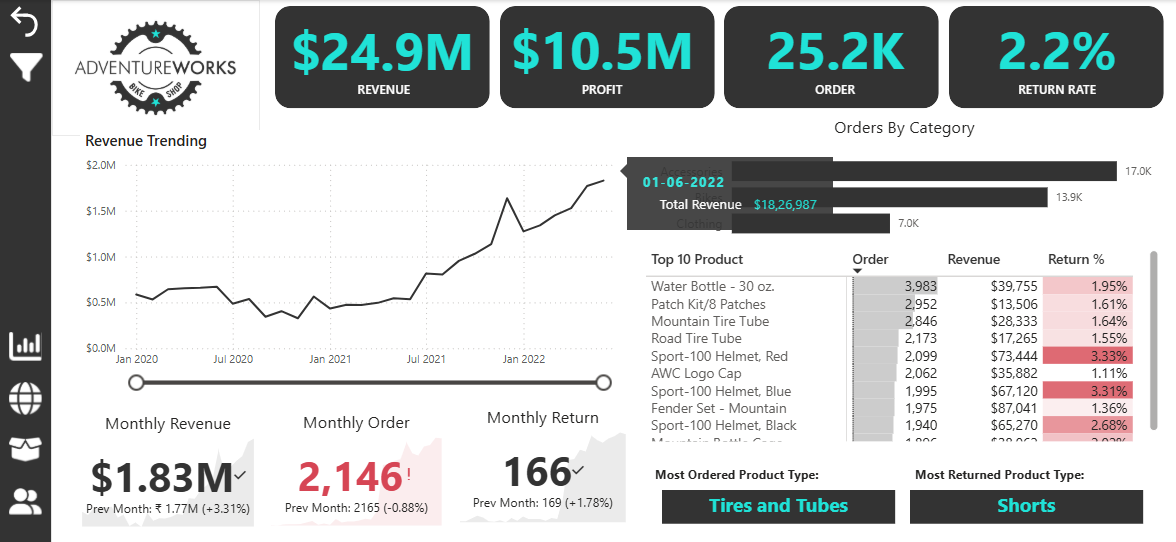

The dashboard page shown, as its layout file describes it:
{"tool":"powerbi","page":{"name":"Executive Dashboard","canvas":[1150,530],"ordinal":1},"visuals":[{"type":"image","title":"AW Logo","box":[51.1,0,203.3,133.3],"z":0},{"type":"group","id":"g1","title":"KPI Background","box":[268.6,5.6,868.9,100],"z":0,"group":"g3"},{"type":"shape","box":[488.2,5.6,210,100],"z":0,"group":"g1"},{"type":"card","fields":{"Values":["Measure Table.Total Profit"]},"box":[473.5,7.3,231.1,93],"z":0,"group":"g2"},{"type":"shape","title":"Left Nav Background","box":[0,0,50,530],"z":1000},{"type":"shape","box":[927.5,5.6,210,100],"z":1000,"group":"g1"},{"type":"group","id":"g2","title":"KPI Values","box":[257.9,7.3,891.1,94.4],"z":1000,"group":"g3"},{"type":"card","fields":{"Values":["Measure Table.Total Revenue"]},"box":[257.9,7.3,231.1,94.4],"z":1000,"group":"g2"},{"type":"group","id":"g3","title":"KPI","box":[257.9,5.6,891.1,100],"z":2000},{"type":"shape","box":[268.6,5.6,210,100],"z":2000,"group":"g1"},{"type":"card","fields":{"Values":["Measure Table.Return Rate"]},"box":[917.9,7.3,231.1,93],"z":2000,"group":"g2"},{"type":"shape","box":[707.9,5.6,210,100],"z":3000,"group":"g1"},{"type":"card","fields":{"Values":["Measure Table.Total Order"]},"box":[701.2,7.3,231.1,93],"z":3000,"group":"g2"},{"type":"lineChart","title":"Revenue Trending","fields":{"Y":["Measure Table.Total Revenue"],"Category":["Calendar Lookup.Year","Calendar Lookup.Start of Quarter","Calendar Lookup.Start of Month"]},"box":[77.9,127.4,537.9,258.4],"z":3000},{"type":"kpi","title":"Monthly Revenue","fields":{"Indicator":["Measure Table.Total Revenue"],"TrendLine":["Calendar Lookup.Start of Month"],"Goal":["Measure Table.Previous Month Revenue"]},"box":[75.4,403.1,178.1,117.5],"z":4000},{"type":"kpi","title":"Monthly Order","fields":{"TrendLine":["Calendar Lookup.Start of Month"],"Indicator":["Measure Table.Total Order"],"Goal":["Measure Table.Previous Month Order"]},"box":[259.7,401.9,176.8,117.5],"z":5000},{"type":"kpi","title":"Monthly Return","fields":{"TrendLine":["Calendar Lookup.Start of Month"],"Indicator":["Measure Table.Total Returns"],"Goal":["Measure Table.Previous Month Return"]},"box":[445.2,396.9,171.9,118.7],"z":6000},{"type":"clusteredBarChart","title":"Orders By Category","fields":{"Category":["Product Categories Lookup.CategoryName"],"Y":["Measure Table.Total Order"]},"box":[635.6,113.3,497.8,131.1],"z":7000},{"type":"pivotTable","fields":{"Rows":["Product Lookup.ProductName"],"Values":["Measure Table.Total Order","Measure Table.Total Revenue","Measure Table.Return Rate"]},"box":[626.7,240,511.1,196.7],"z":8000},{"type":"card","fields":{"Values":["Min(Product Subcategories Lookup.SubcategoryName)"]},"box":[647,478.9,227.8,33.3],"z":9000},{"type":"textbox","box":[635.7,450,175.6,31.1],"z":10000},{"type":"card","fields":{"Values":["Min(Product Subcategories Lookup.SubcategoryName)"]},"box":[890.1,478.9,227.8,33.3],"z":11000},{"type":"textbox","box":[890.1,450,175.6,31.1],"z":12000},{"type":"actionButton","box":[3.9,1.3,51.4,39.8],"z":13000},{"type":"actionButton","box":[5.1,318.7,65.5,39.8],"z":14000},{"type":"actionButton","box":[5.1,419.7,65.5,39.8],"z":15000},{"type":"actionButton","box":[5.1,369.2,65.5,39.8],"z":16000},{"type":"actionButton","box":[5.1,470.3,65.5,39.8],"z":17000},{"type":"actionButton","box":[5.5,46.4,49.7,39.8],"z":18000}]}

Visuals, with their boxes on the page's 1150x530 design canvas (x1, y1, x2, y2). These are canvas units, not pixel positions in the 1176x542 screenshot, which may show the page scaled, cropped or inside an application window:
"AW Logo" image: bbox(51, 0, 254, 133)
"KPI Background" group: bbox(269, 6, 1138, 106)
shape: bbox(488, 6, 698, 106)
card - Measure Table.Total Profit: bbox(474, 7, 705, 100)
"Left Nav Background" shape: bbox(0, 0, 50, 530)
shape: bbox(928, 6, 1138, 106)
"KPI Values" group: bbox(258, 7, 1149, 102)
card - Measure Table.Total Revenue: bbox(258, 7, 489, 102)
"KPI" group: bbox(258, 6, 1149, 106)
shape: bbox(269, 6, 479, 106)
card - Measure Table.Return Rate: bbox(918, 7, 1149, 100)
shape: bbox(708, 6, 918, 106)
card - Measure Table.Total Order: bbox(701, 7, 932, 100)
"Revenue Trending" lineChart: bbox(78, 127, 616, 386)
"Monthly Revenue" kpi: bbox(75, 403, 254, 521)
"Monthly Order" kpi: bbox(260, 402, 436, 519)
"Monthly Return" kpi: bbox(445, 397, 617, 516)
"Orders By Category" clusteredBarChart: bbox(636, 113, 1133, 244)
pivotTable - Product Lookup.ProductName x Measure Table.Total Order: bbox(627, 240, 1138, 437)
card - Min(Product Subcategories Lookup.SubcategoryName): bbox(647, 479, 875, 512)
textbox: bbox(636, 450, 811, 481)
card - Min(Product Subcategories Lookup.SubcategoryName): bbox(890, 479, 1118, 512)
textbox: bbox(890, 450, 1066, 481)
actionButton: bbox(4, 1, 55, 41)
actionButton: bbox(5, 319, 71, 358)
actionButton: bbox(5, 420, 71, 460)
actionButton: bbox(5, 369, 71, 409)
actionButton: bbox(5, 470, 71, 510)
actionButton: bbox(6, 46, 55, 86)
